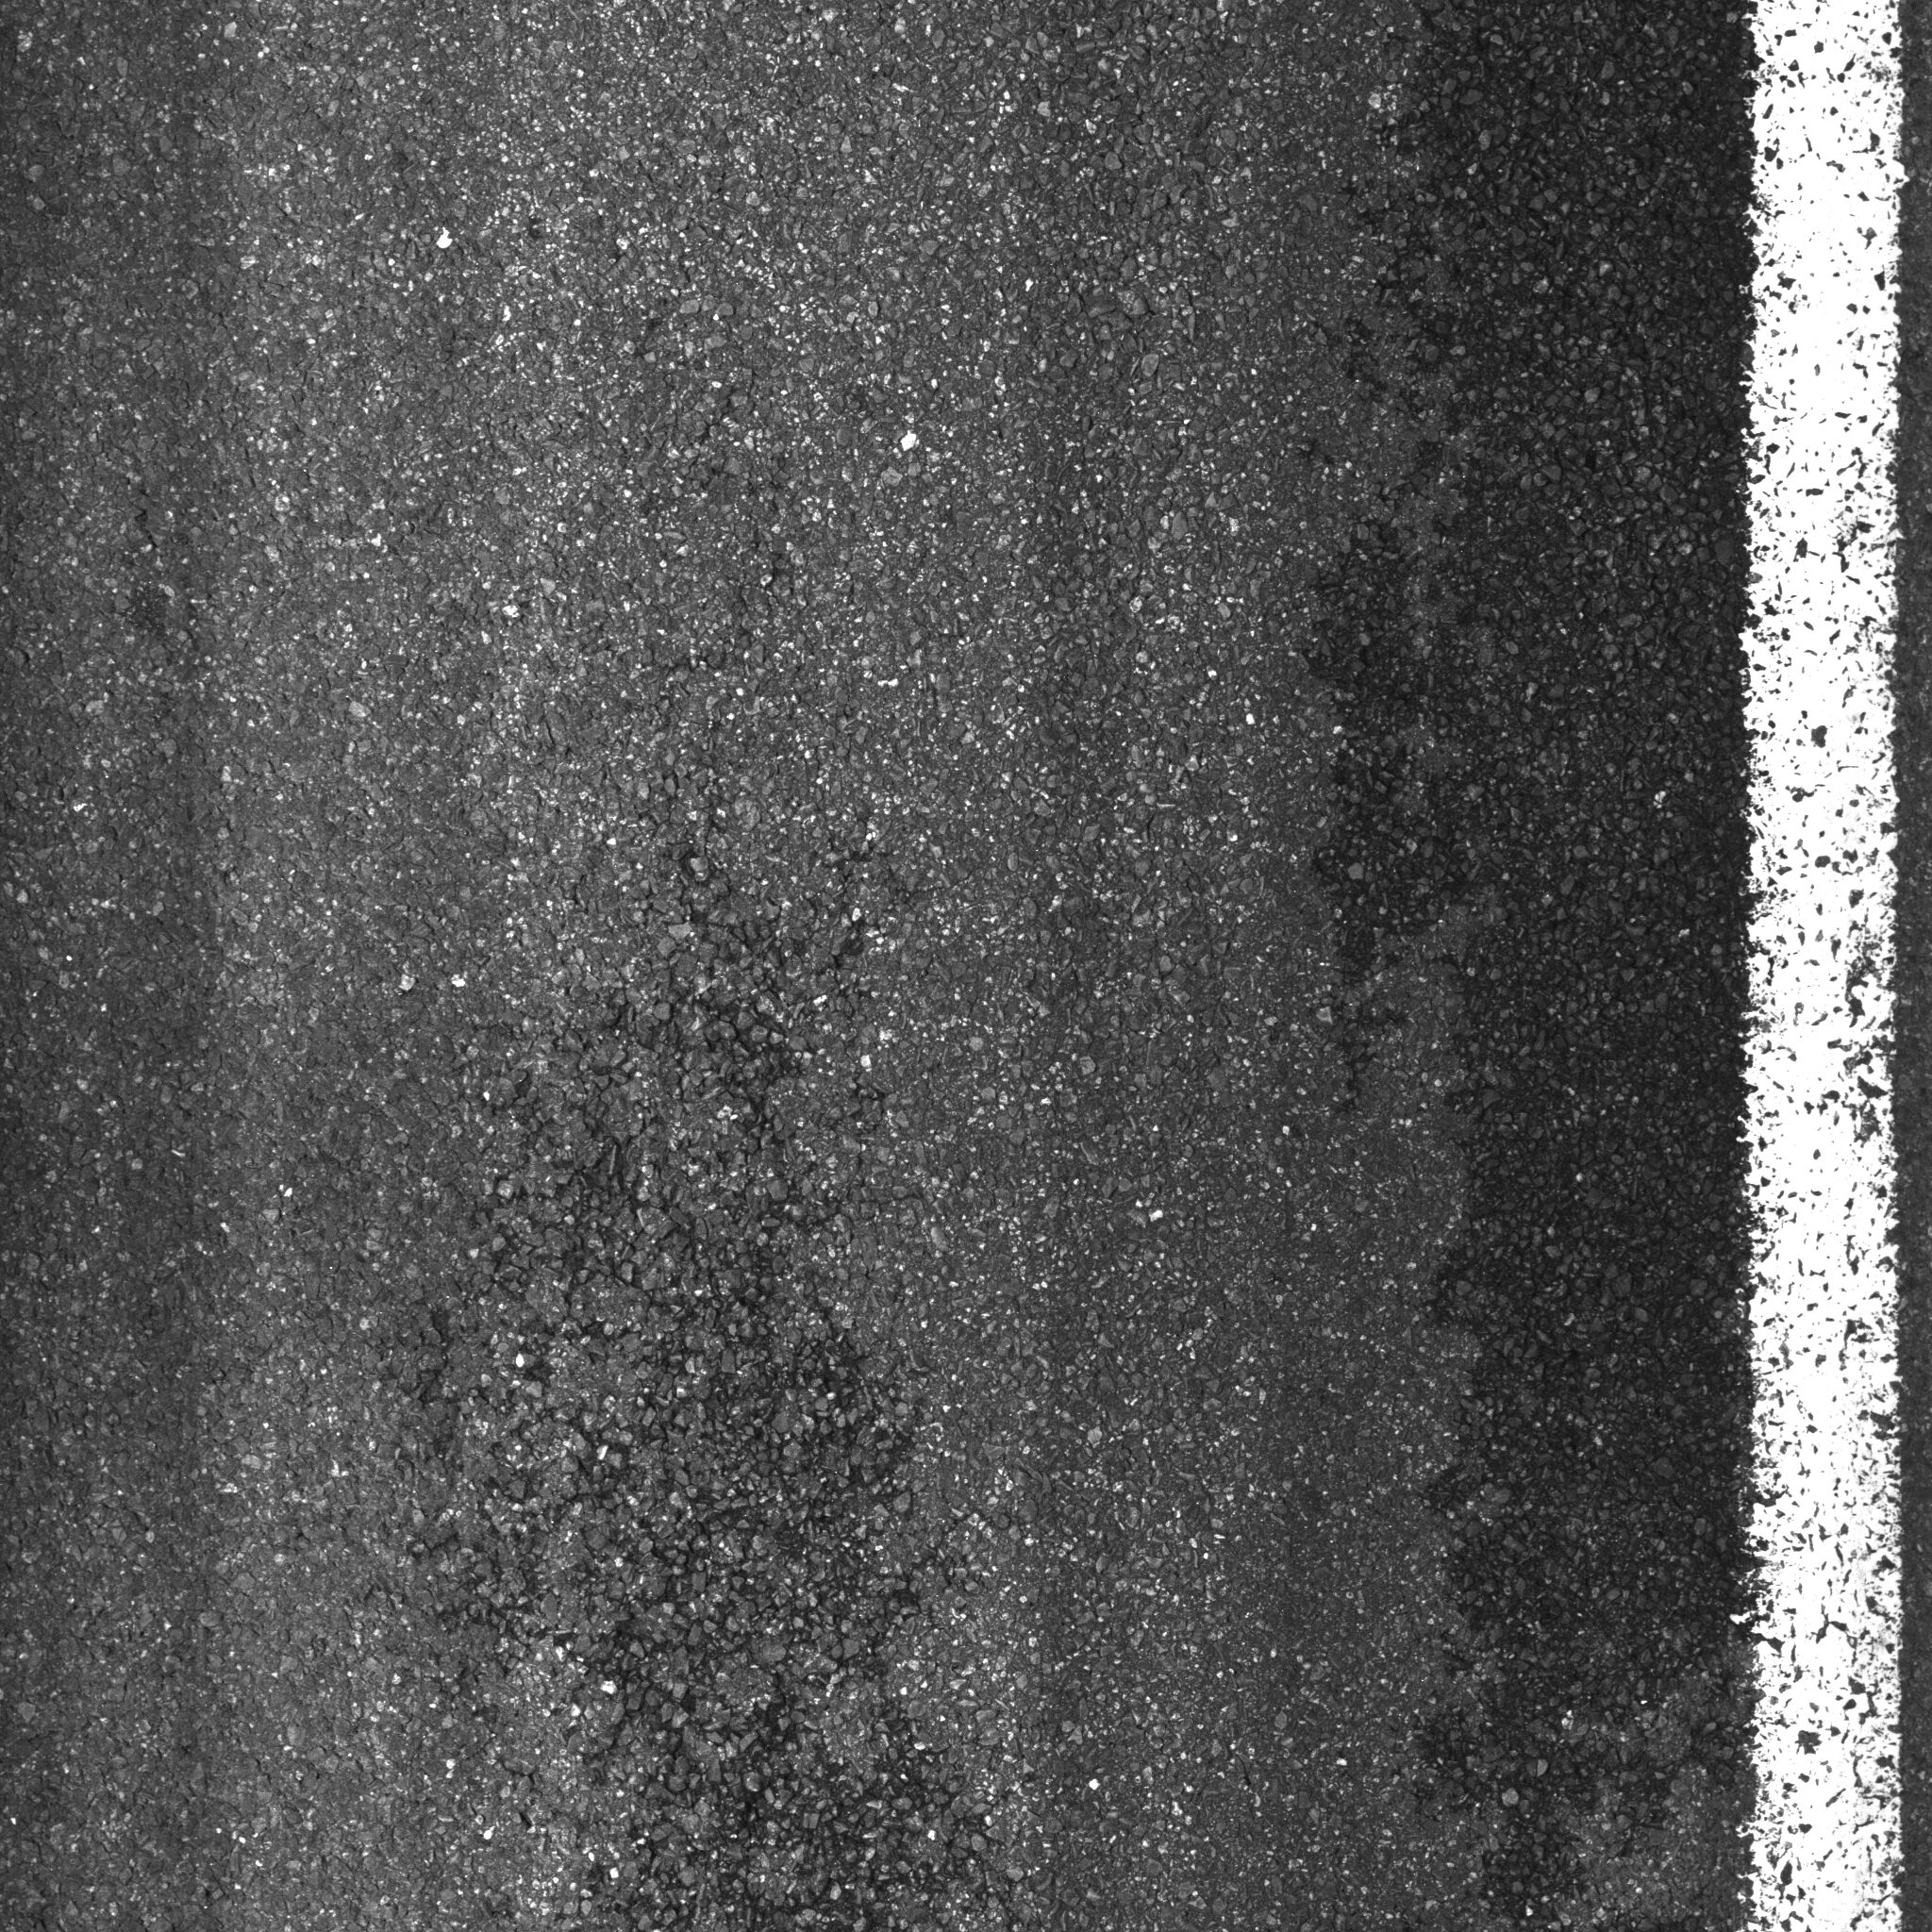transeverse: (628, 295, 886, 1309)
